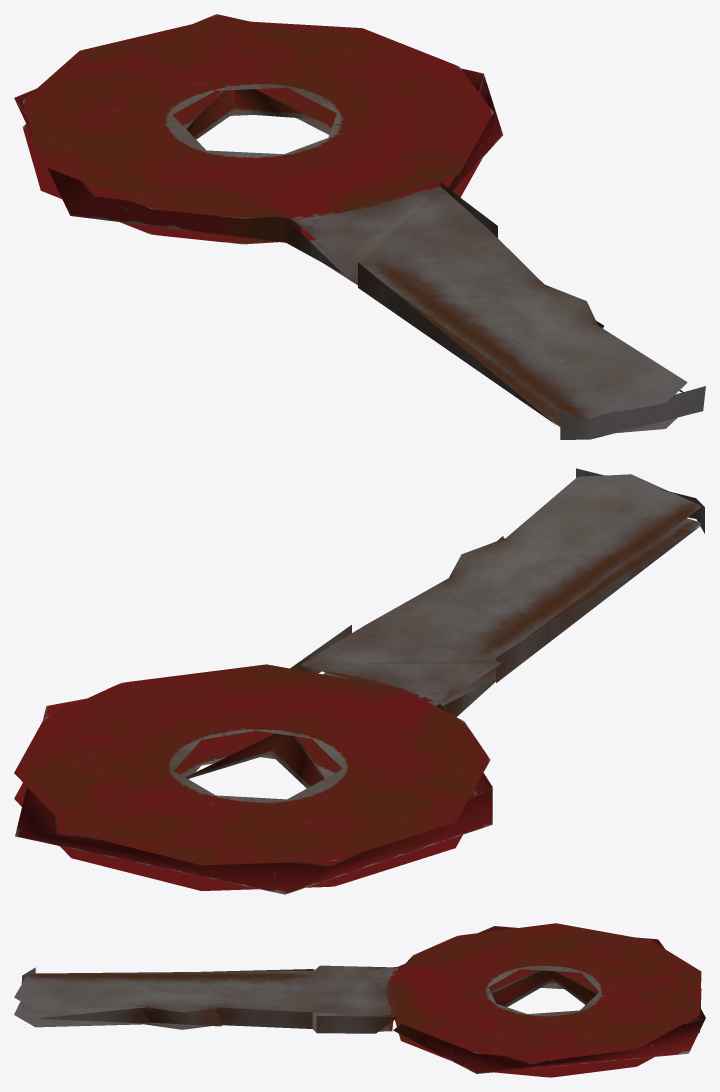
3 renders of one model, top to bottom at view 1: azimuth 30°, elevation 25°; view 2: azimuth 150°, elevation 25°; view 3: azimuth 270°, elevation 25°, orthographic. The views are drawn at different scales.
Visible parts, largest first — view 1: Mesh_0.021; view 2: Mesh_0.021; view 3: Mesh_0.021.
Part boxes in pixels (bbox=[...]): Mesh_0.021: bbox=[14, 14, 705, 439]; Mesh_0.021: bbox=[14, 468, 704, 894]; Mesh_0.021: bbox=[14, 923, 705, 1077].
Size of the model in its own units: 0.131 by 0.00797 by 0.2699.
1 material, 1 textured.
